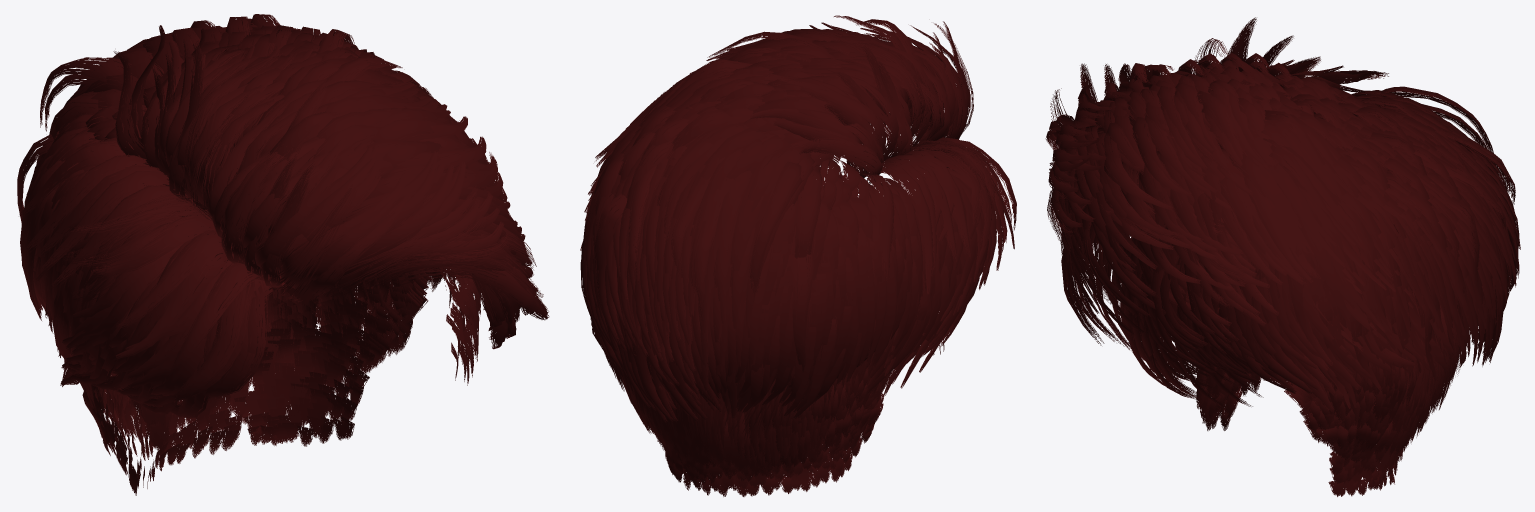
The model's file is male_hair.glb.
3 renders of one model, left to right at view 1: azimuth 30°, elevation 25°; view 2: azimuth 150°, elevation 25°; view 3: azimuth 270°, elevation 25°, orthographic. The views are drawn at different scales.
Parts seen in each view (by area): view 1: hair, hair_cap; view 2: hair, hair_cap; view 3: hair, hair_cap.
Part boxes in pixels (bbox=[...]): hair: bbox=[17, 14, 549, 418]; hair_cap: bbox=[71, 145, 480, 495]; hair: bbox=[580, 15, 1016, 422]; hair_cap: bbox=[590, 294, 944, 496]; hair: bbox=[1045, 17, 1520, 411]; hair_cap: bbox=[1137, 180, 1478, 496].
Bounding box in the file's own units: 0.2209 × 0.2455 × 0.2505.
Materials: 1 (1 with a texture image).
